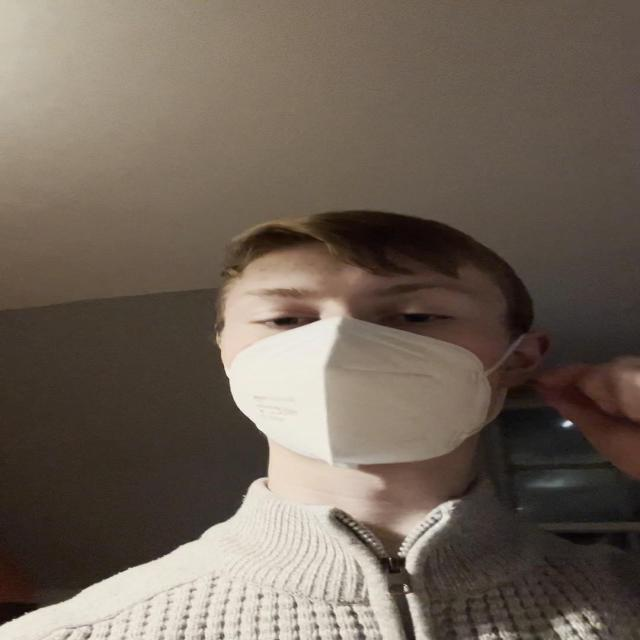no-helmet: (187, 190, 547, 524)
